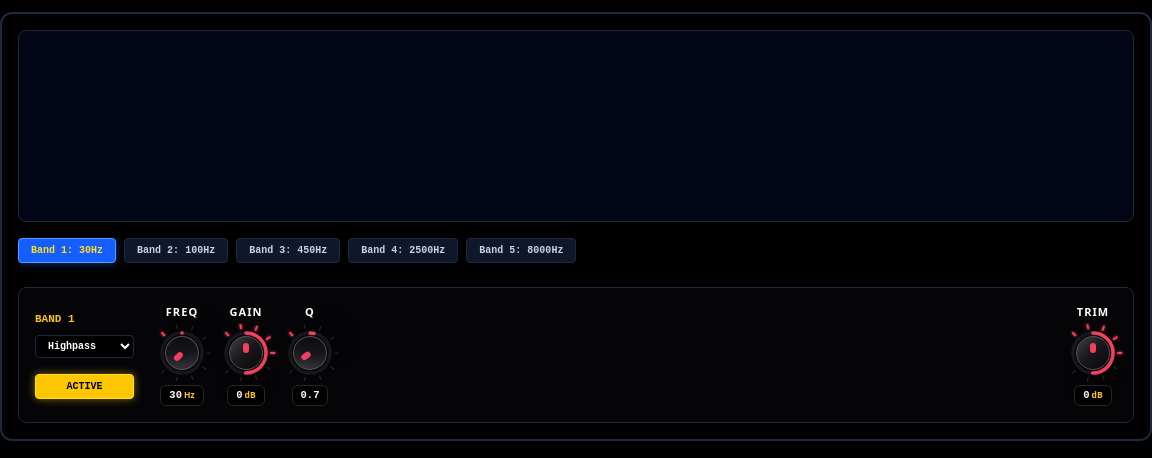
it: AdvancedEQEditor › switches the selected band via the chip
The image size is (1152, 458).
Click the button with aria-label "Select band 2".
click(176, 250)  # box [124,238,228,263]
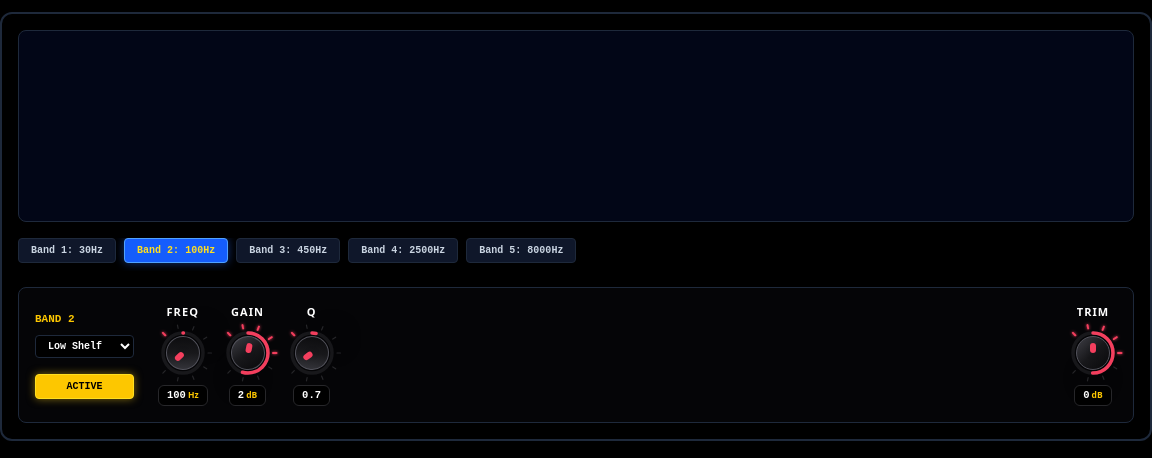
Expected: the text "BAND 2" is shown, [35,313,75,325]
